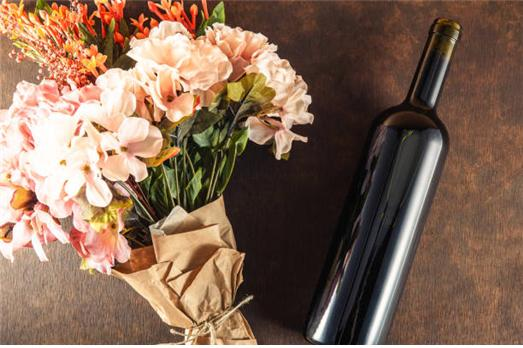alcohol: (306, 18, 462, 348)
